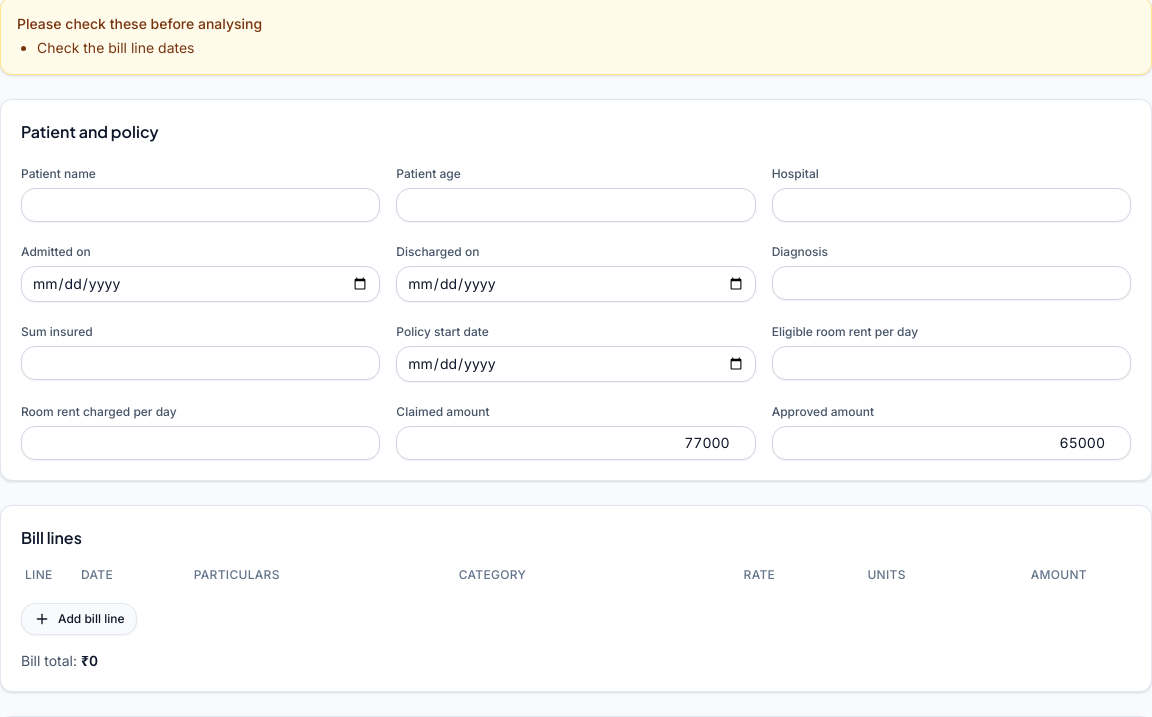
Test: CaseConfirmForm › disables Analyse while there are no bill lines and enables it once one has an amount
The image size is (1152, 717).
Step 1. Click the button "Add bill line" → (79, 619), box [21,603,138,635]
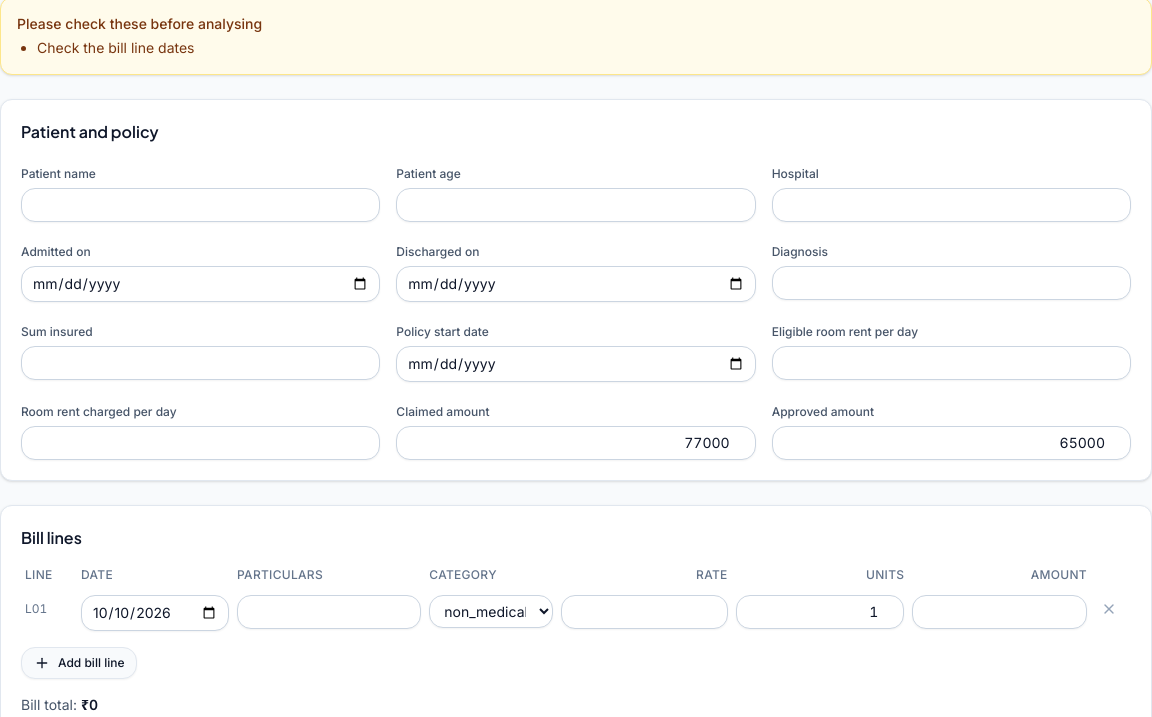
Step 2. Type "32000" into the number field named "Line 1 amount" → (1000, 612), box [912,595,1087,629]
(page scrolled)
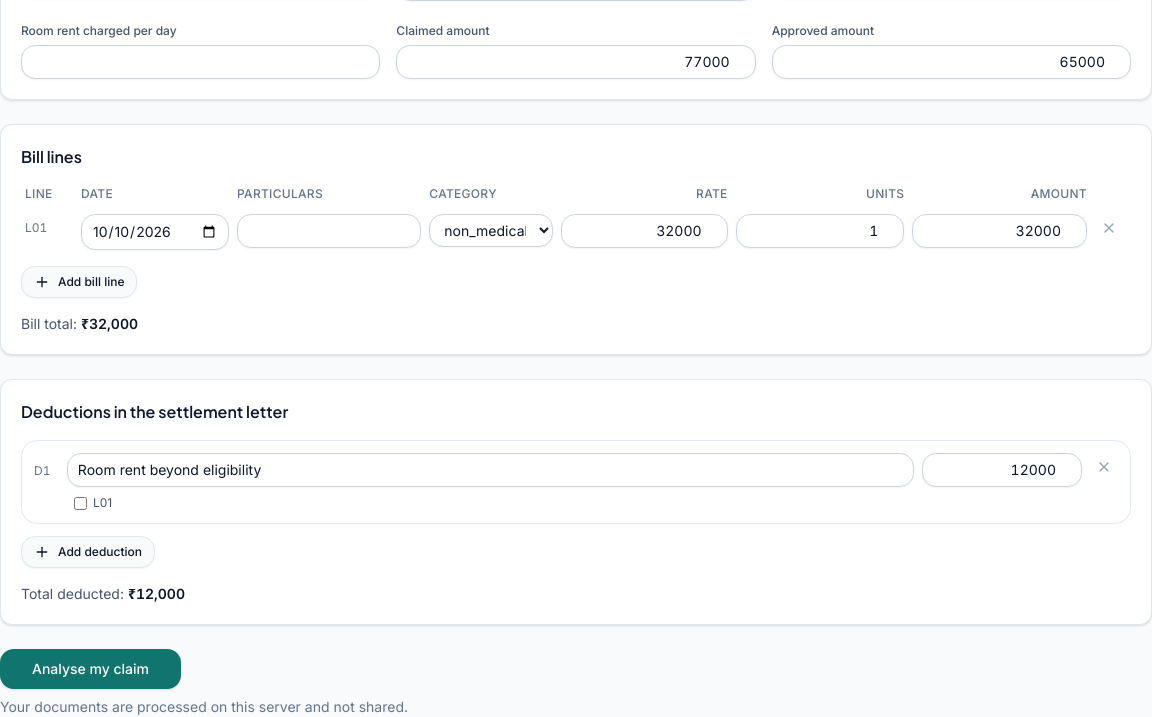
Result: the button "Analyse my claim" is enabled at [0,649,181,689]
